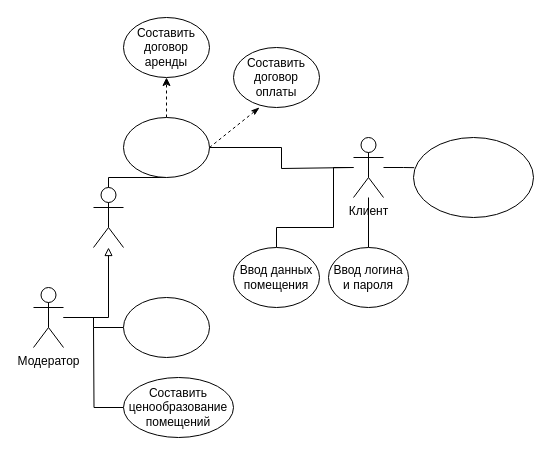
The diagram is 551 pixels wide and 455 high, and some of its shapes have lost their labels. Here are the shapes that lost their labels. From the top down, the box of each, then its label:
(122, 116, 210, 178): Составить договор
(412, 136, 534, 218): Найти помещение для аренды
(92, 186, 124, 248): Владелец
(122, 296, 210, 358): Составить документацию помещения
